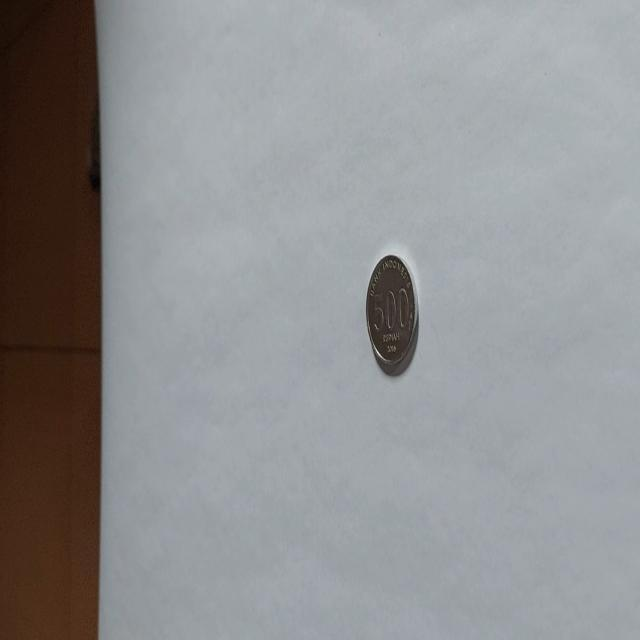lima ratus rupiah: (364, 252, 418, 376)
